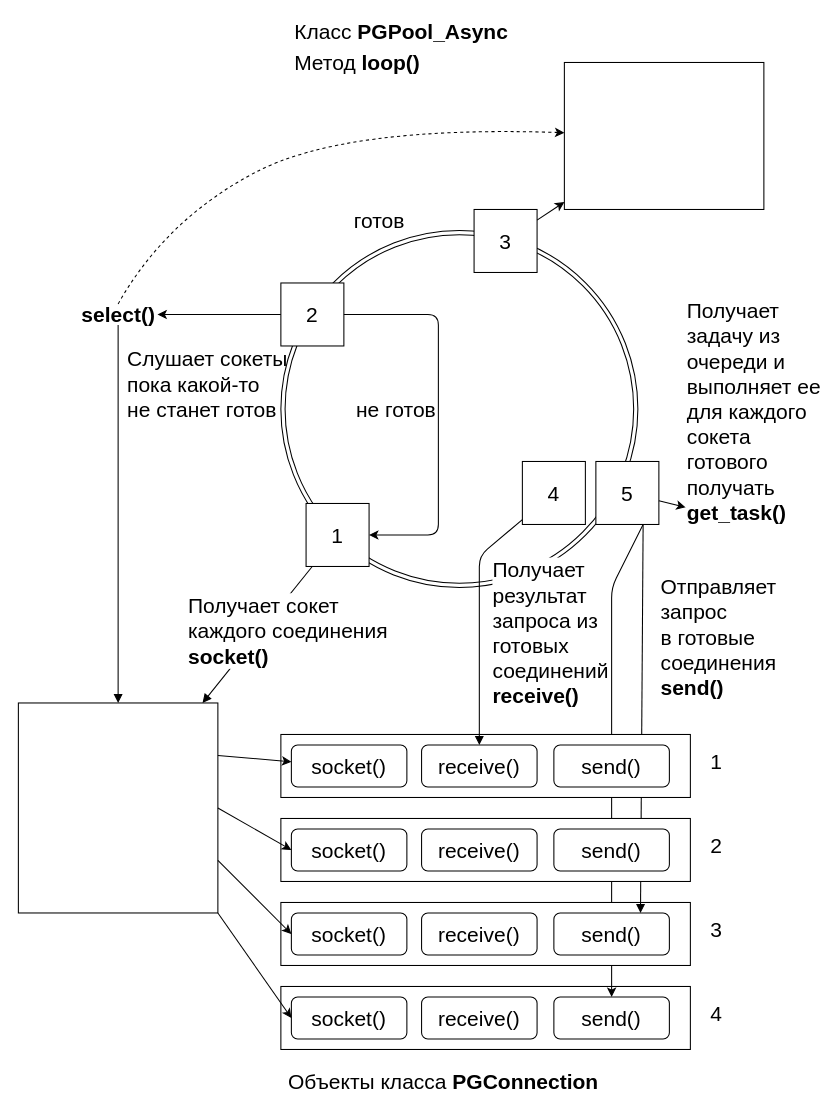
This 840x1111 diagram has some shape labels left out. Here are the shapes that lost their labels. From the top down, the centre of each, then its label:
At [663,135]: "Готов отдавать: сокет 1 Готов получать: сокет 3, сокет 4".
At [117,807]: "Список соединений сокет 1 сокет 2 сокет 3 сокет 4 ... сокет N".
